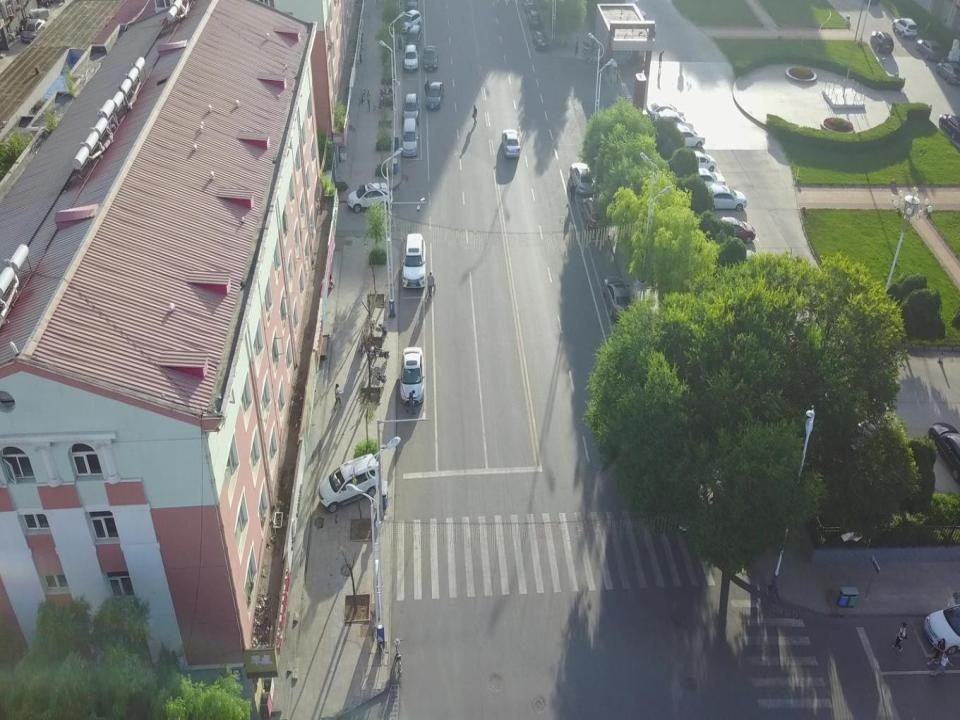car: (317, 451, 381, 513), (927, 420, 960, 484), (922, 600, 960, 655), (602, 274, 636, 324), (398, 346, 426, 406), (346, 182, 394, 214), (696, 183, 748, 211), (710, 214, 757, 243), (662, 123, 706, 150), (653, 109, 695, 134), (685, 167, 727, 192), (580, 196, 607, 232), (676, 149, 718, 172), (570, 162, 596, 196), (644, 100, 686, 120), (938, 111, 960, 145), (916, 37, 944, 62), (20, 18, 46, 44), (935, 60, 960, 86), (870, 29, 894, 55), (402, 91, 420, 125), (424, 81, 445, 110), (501, 128, 521, 158), (397, 8, 422, 32), (892, 17, 918, 40), (402, 44, 419, 74), (422, 44, 438, 72), (531, 29, 550, 51), (526, 7, 541, 29)
van: (401, 232, 427, 289), (400, 117, 420, 157), (404, 23, 422, 51)
